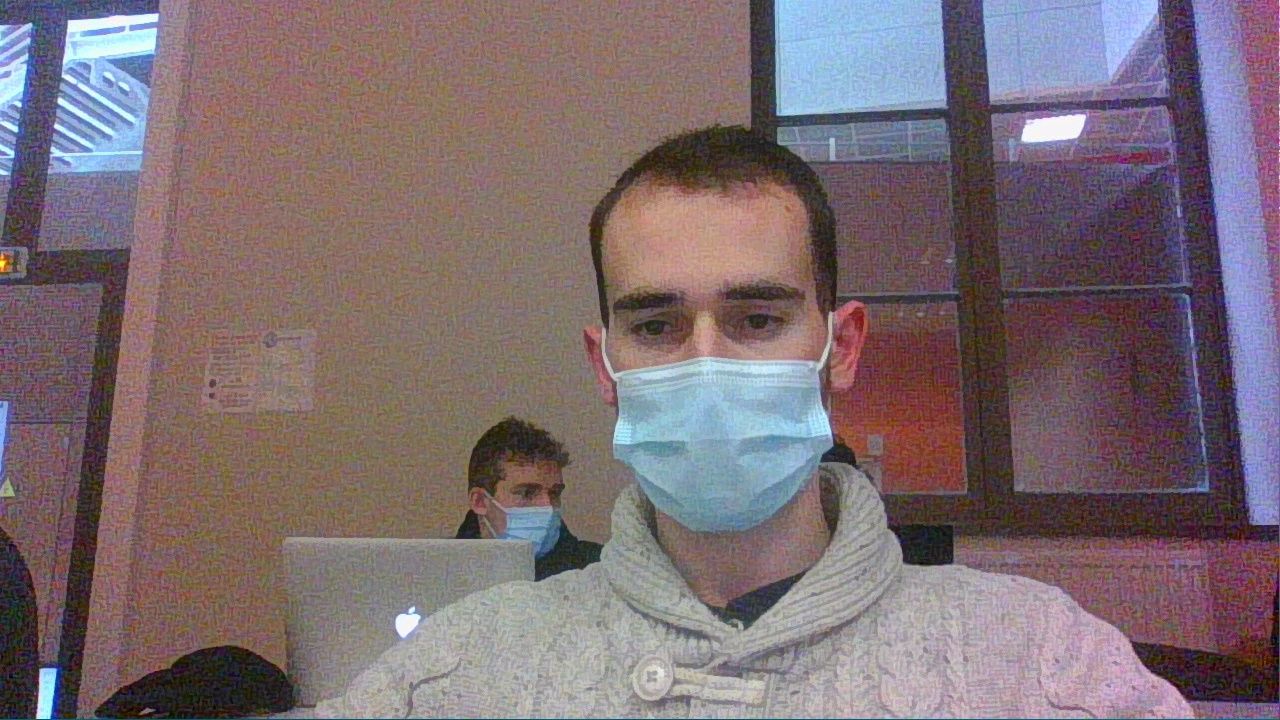mask: (580, 120, 866, 530), (464, 419, 562, 555)
